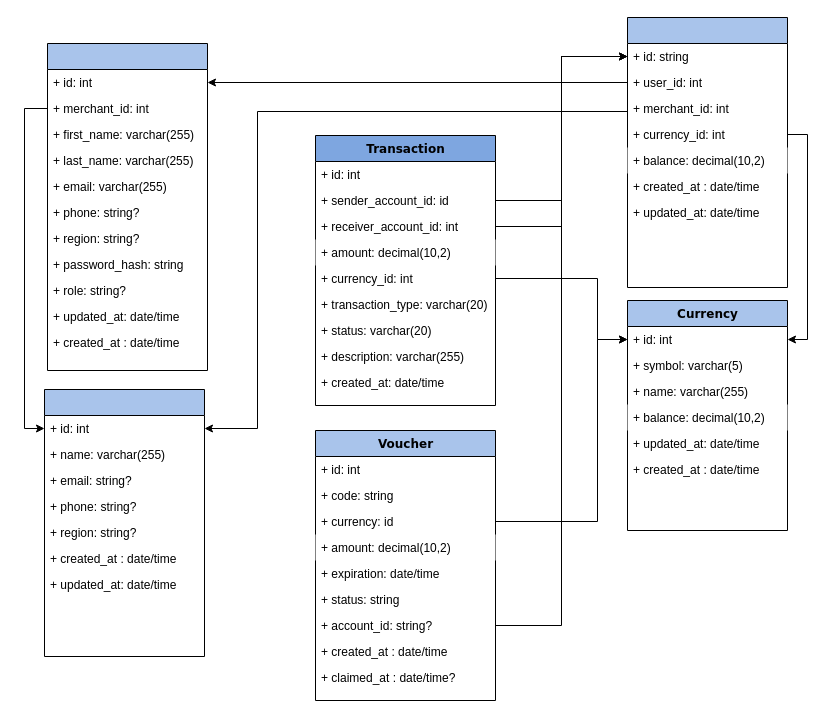
The diagram is 833 pixels wide and 718 high, and some of its shapes have lost their labels. The box of each missing label's shape, as (x1, y1, x2, y2) in pixels:
Account: (626, 16, 788, 288)
Merchant: (44, 388, 204, 656)
User: (46, 42, 208, 370)
